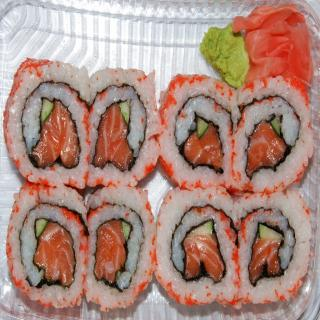Sushi: (5, 56, 312, 309), (156, 74, 242, 190)
